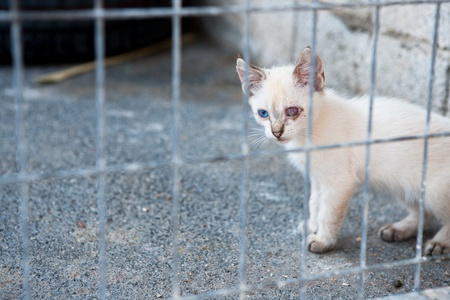cat: (235, 47, 450, 255)
